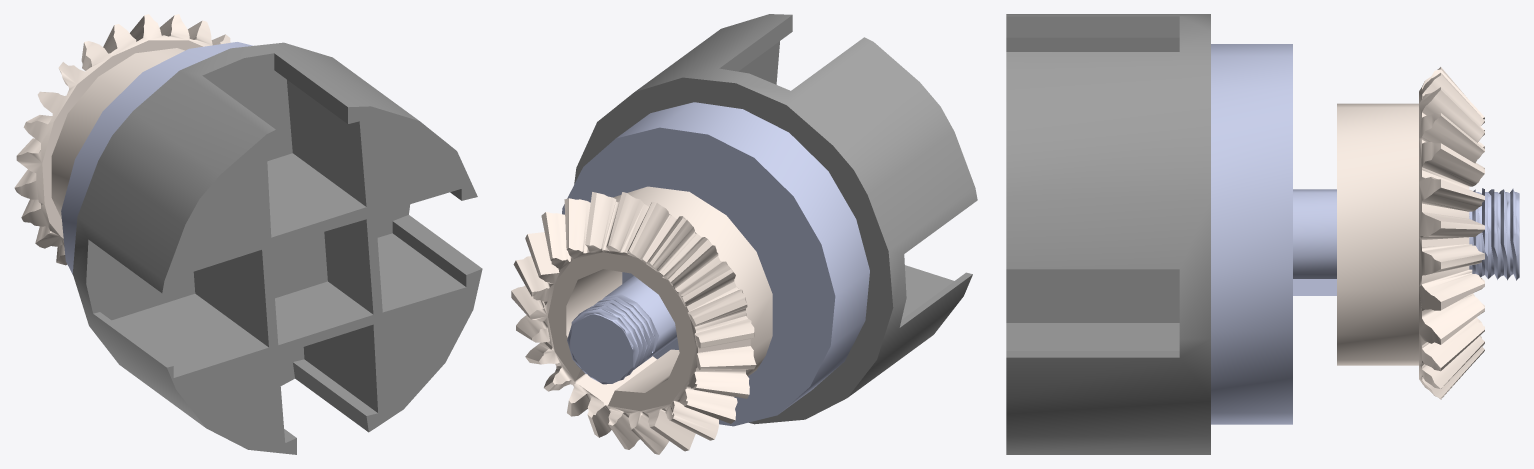
File: wrist_roll_link.glb
3 renders of one model, left to right at view 1: azimuth 30°, elevation 25°; view 2: azimuth 150°, elevation 25°; view 3: azimuth 270°, elevation 25°, orthographic. The views are drawn at different scales.
Parts seen in each view (by area): view 1: wrist_roll_link; view 2: wrist_roll_link; view 3: wrist_roll_link.
Part boxes in pixels (x1,y1,x2,y2): wrist_roll_link: (14,14,482,454); wrist_roll_link: (511,14,977,454); wrist_roll_link: (1006,14,1519,454).
Size of the model in its own units: 0.07 by 0.0695 by 0.0815.
